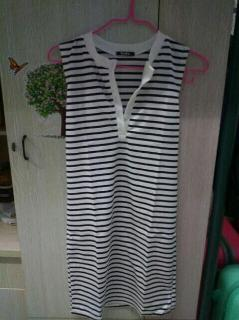vest: (58, 30, 190, 319)
